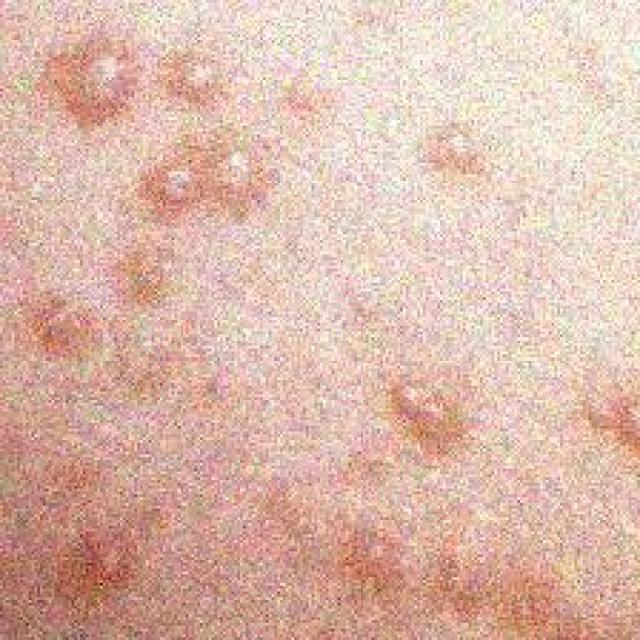others: (20, 32, 628, 640)
